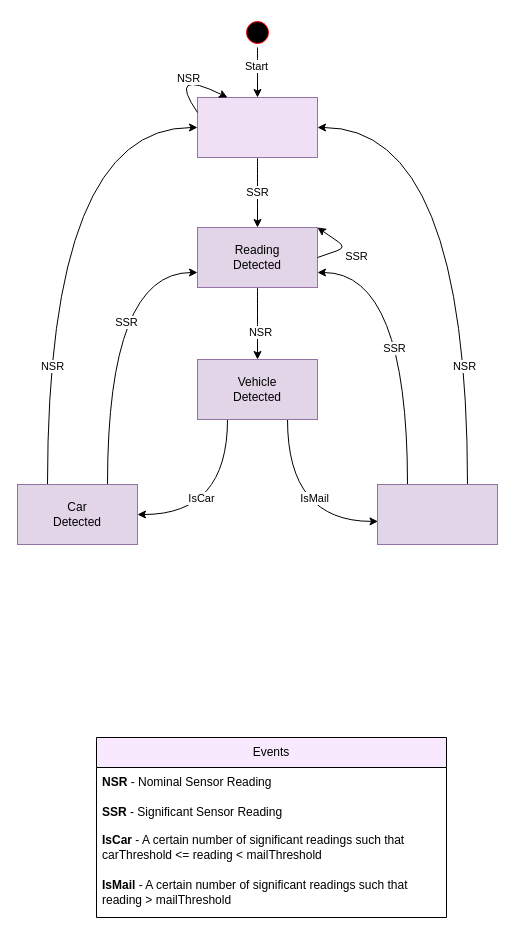
This 515x935 diagram has some shape labels left out. The shapes that lost their labels are listed below. From the top down, each one's box as (x1, y1, x2, y2) in pixels, then its label:
(196, 96, 318, 158): Nothing Detected
(376, 484, 498, 544): Mail Delivery Detected
